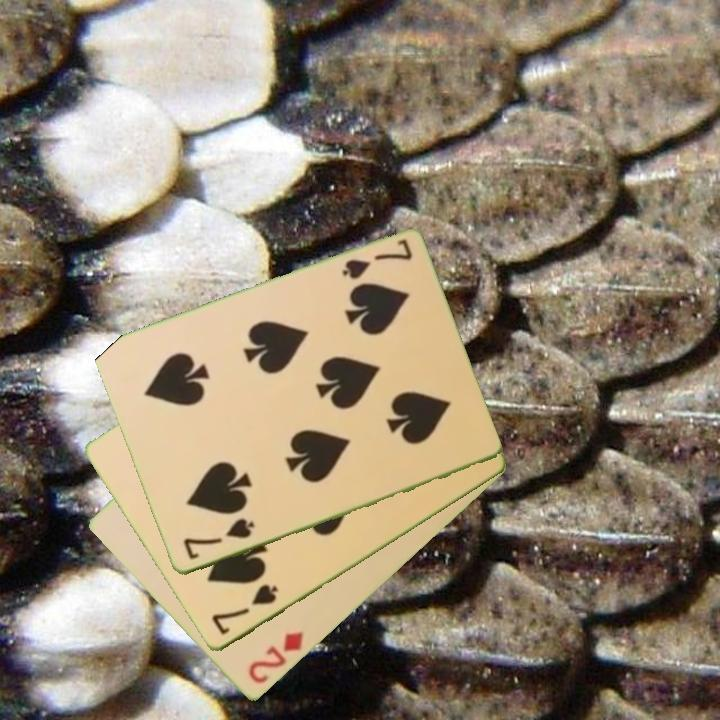2d: (245, 628, 307, 688)
7s: (208, 581, 281, 639), (179, 515, 257, 563), (338, 236, 415, 283)
